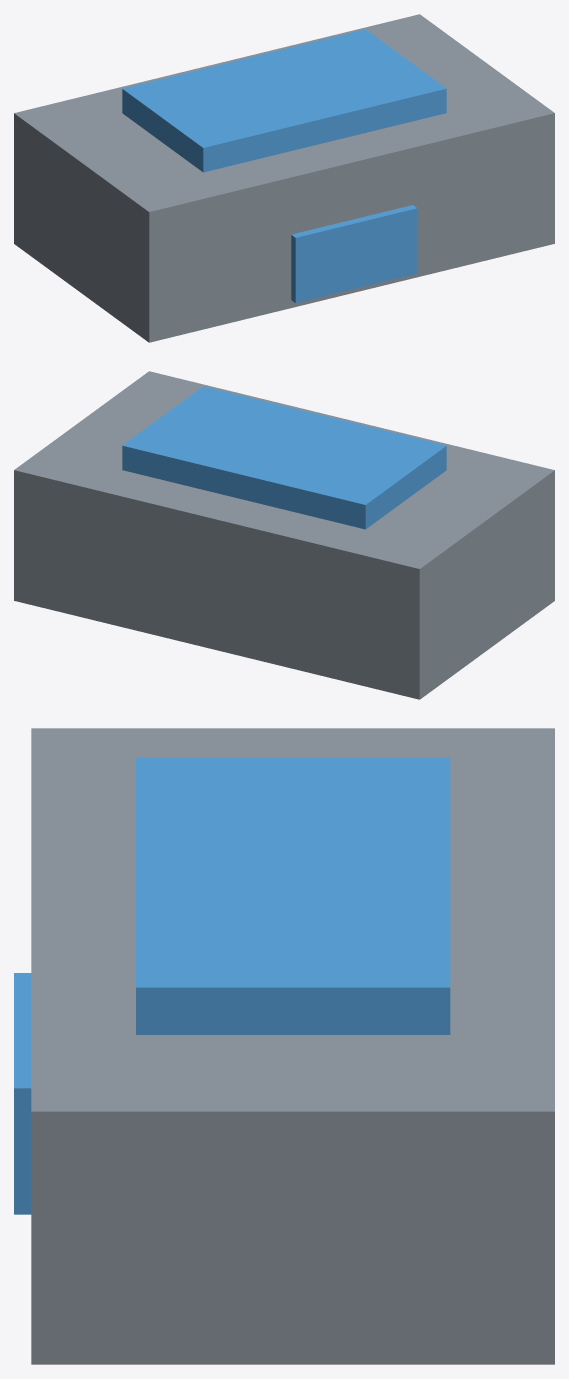
File: AL_RefractionTank_LOD0.glb
3 views of the same model, one above another, from view 1: azimuth 30°, elevation 25°; view 2: azimuth 150°, elevation 25°; view 3: azimuth 270°, elevation 25° (orthographic). The views are drawn at different scales.
Parts seen in each view (by area): view 1: EntranceGate; view 2: EntranceGate; view 3: EntranceGate.
Part boxes in pixels (<box>): EntranceGate: <box>14,14,554,342</box>; EntranceGate: <box>14,371,554,699</box>; EntranceGate: <box>14,728,554,1364</box>.
Size of the model in its own units: 520 by 190 by 310.
